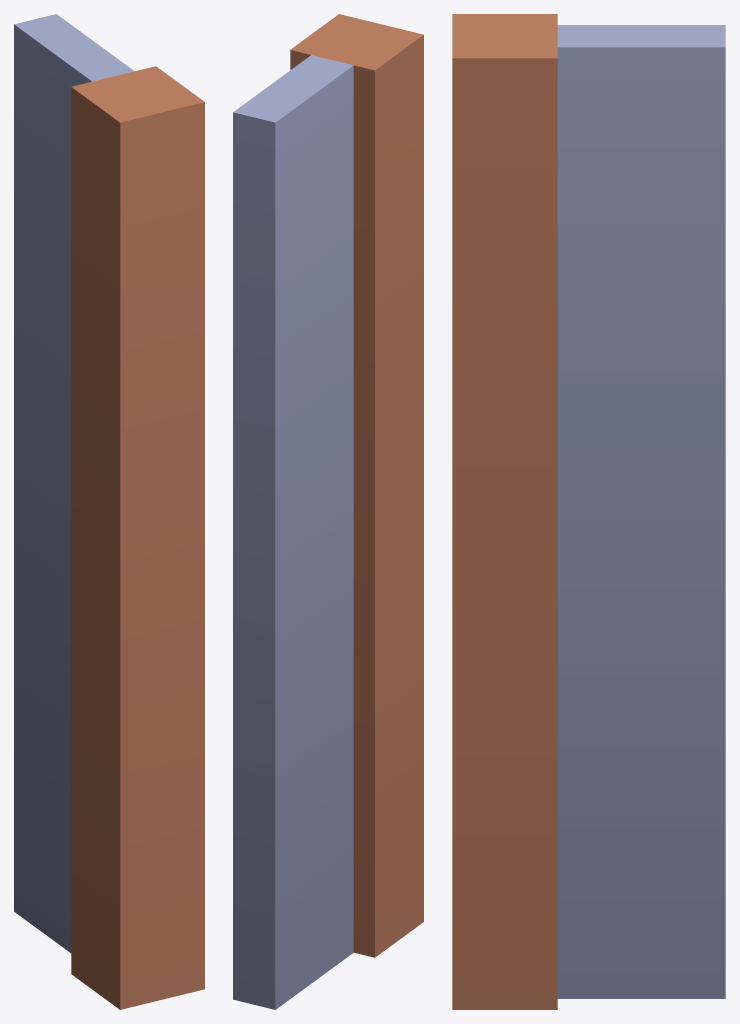
Rendered from wall-side.glb.
3 views of the same model, side by side, from view 1: azimuth 30°, elevation 25°; view 2: azimuth 150°, elevation 25°; view 3: azimuth 270°, elevation 25° (orthographic). The views are drawn at different scales.
Parts seen in each view (by area): view 1: wall-side; view 2: wall-side; view 3: wall-side.
Boxes of the visible parts, left/top/right/bottom form: wall-side: left=14, top=14, right=204, bottom=1009; wall-side: left=233, top=14, right=423, bottom=1009; wall-side: left=452, top=14, right=725, bottom=1009.
Bounding box in the file's own units: 0.1 × 1 × 0.26.
Materials: 1 (1 with a texture image).
